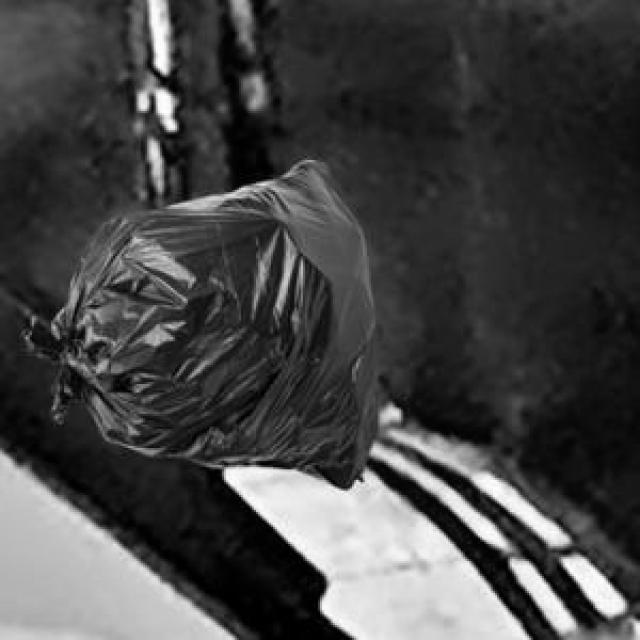miscellaneous trash: (19, 158, 373, 484)
